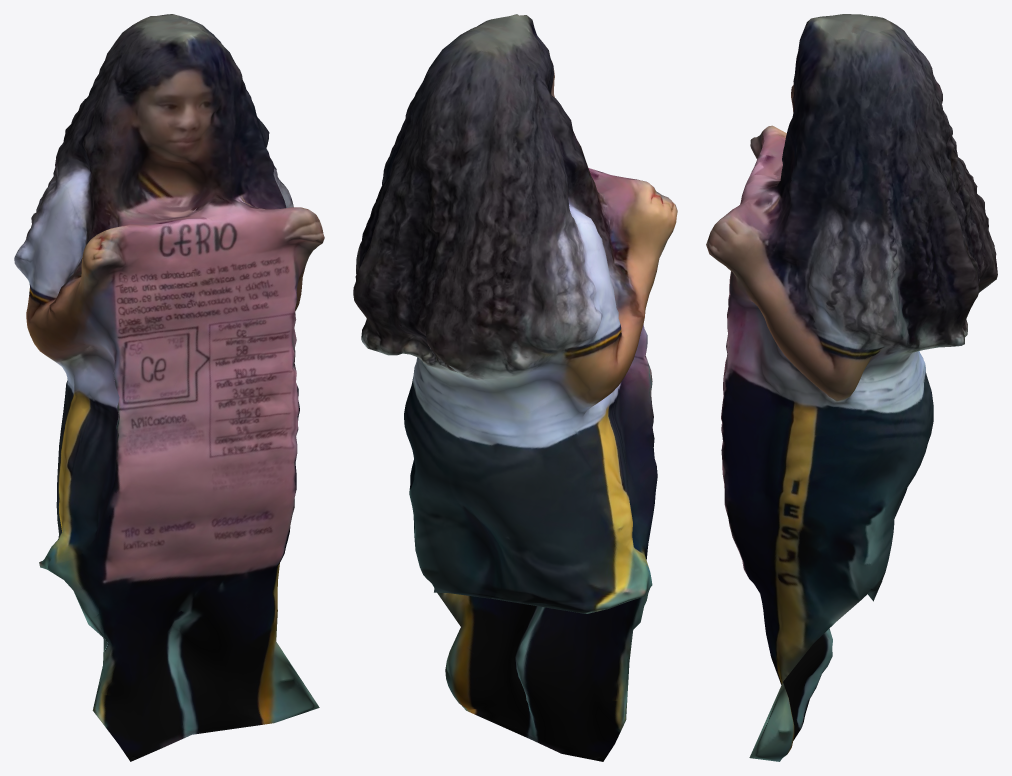
3 views of the same model, side by side, from view 1: azimuth 30°, elevation 25°; view 2: azimuth 150°, elevation 25°; view 3: azimuth 270°, elevation 25° (orthographic). The views are drawn at different scales.
Visible parts, largest first — view 1: 3DModel; view 2: 3DModel; view 3: 3DModel.
Boxes of the visible parts, bbox=[...] form: 3DModel: bbox=[14, 14, 324, 761]; 3DModel: bbox=[353, 14, 677, 761]; 3DModel: bbox=[706, 14, 997, 761].
Size of the model in its own units: 0.536 by 1.39 by 0.5119.
1 material, 1 textured.
